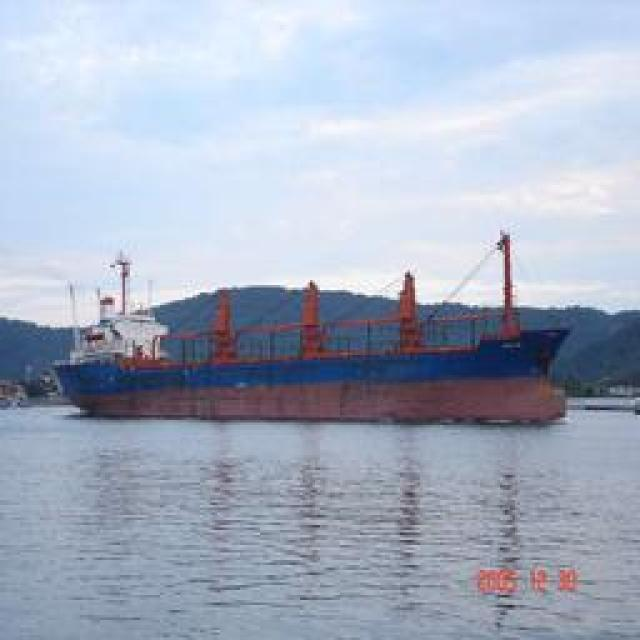ship2: (52, 231, 571, 427)
